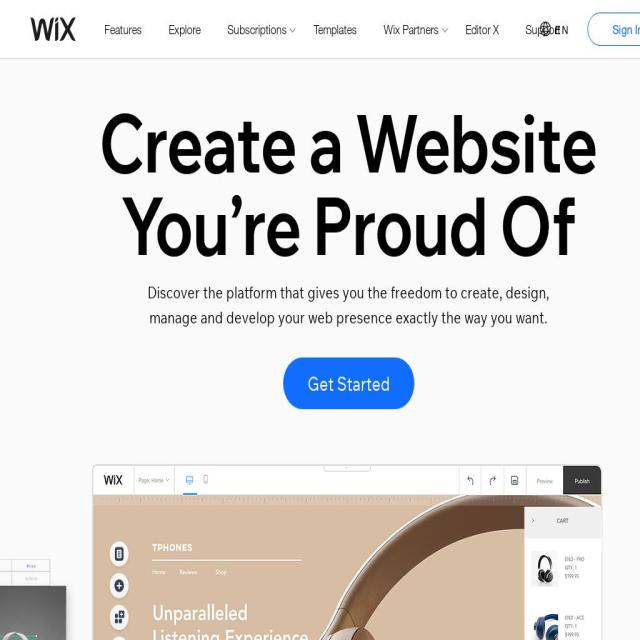button: (284, 358, 414, 409), (222, 1, 308, 42), (378, 1, 461, 42), (527, 0, 584, 58), (309, 1, 379, 42), (99, 1, 164, 42), (520, 1, 582, 42), (460, 1, 520, 42), (164, 1, 222, 42), (587, 12, 640, 45), (30, 17, 76, 41)
heading: (100, 92, 598, 275)
image: (32, 464, 640, 640), (524, 506, 601, 640), (0, 559, 77, 640), (108, 539, 131, 640), (30, 17, 76, 41), (540, 22, 552, 36), (290, 28, 296, 32), (442, 28, 448, 32)
link: (222, 2, 292, 56), (378, 2, 444, 56), (309, 2, 362, 56), (99, 2, 147, 56), (520, 2, 566, 56), (163, 2, 206, 56), (461, 2, 504, 56)
text: (148, 282, 550, 328), (308, 369, 390, 398), (612, 20, 640, 38), (554, 22, 572, 36)
